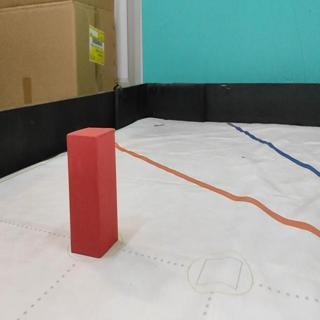redbox: (65, 127, 118, 258)
